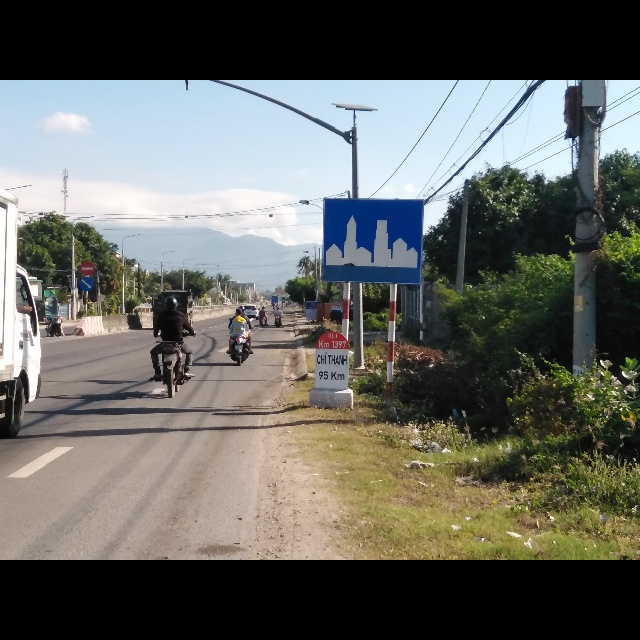Khu đông dân cư: (320, 198, 425, 285)
